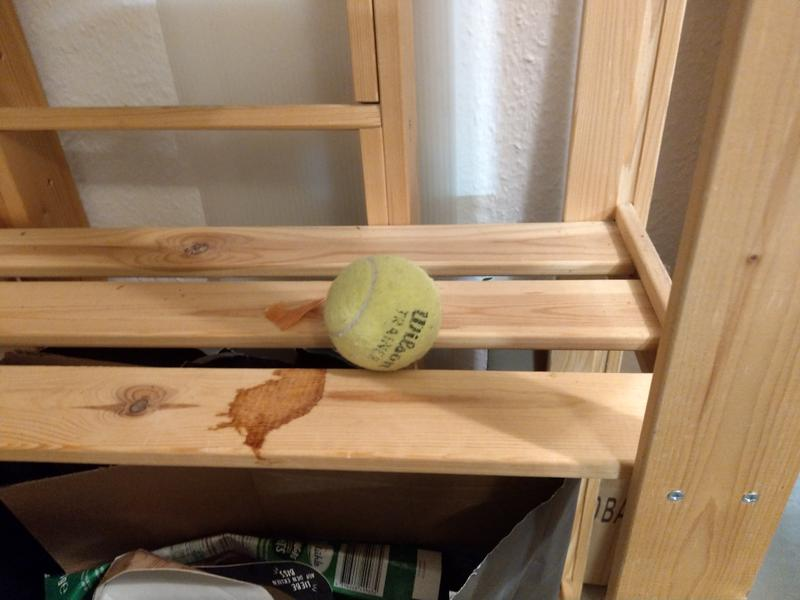Tennisball: (321, 253, 446, 375)
